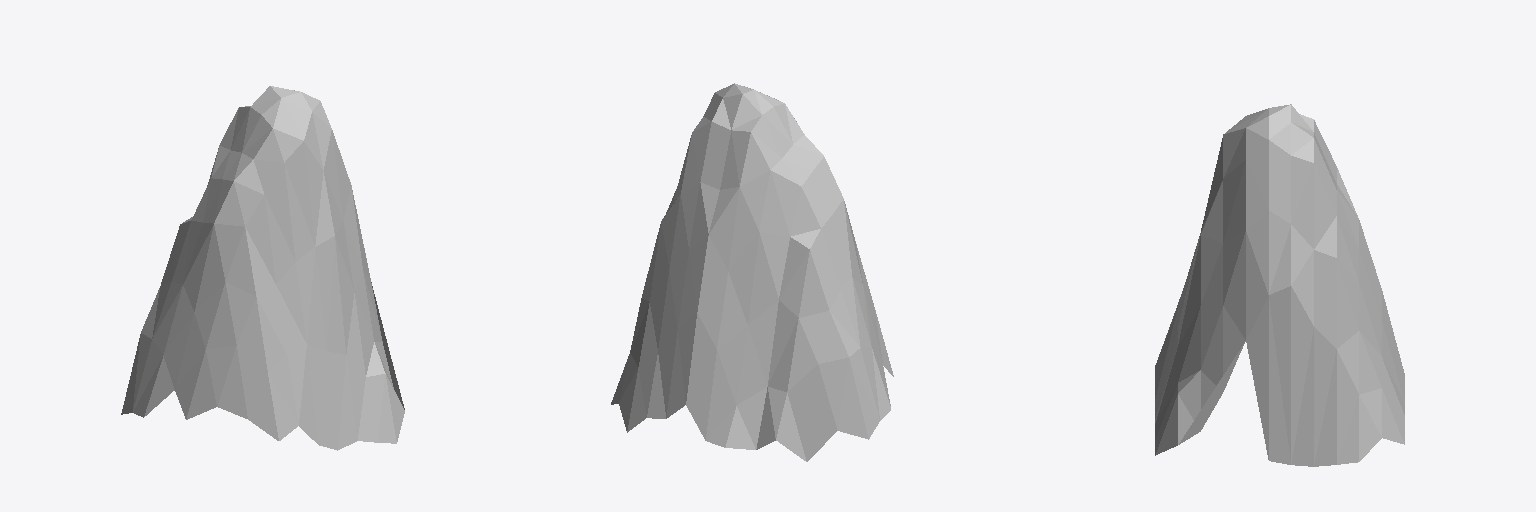
Rendered from tree_10.obj.
3 views of the same model, side by side, from view 1: azimuth 30°, elevation 25°; view 2: azimuth 150°, elevation 25°; view 3: azimuth 270°, elevation 25° (orthographic).
Visible parts, largest first — view 1: tree_10.001; view 2: tree_10.001; view 3: tree_10.001.
Boxes of the visible parts, box(x1,y1,x2,y2) form: tree_10.001: box(121, 86, 404, 450); tree_10.001: box(611, 83, 893, 461); tree_10.001: box(1155, 104, 1404, 466).
Bounding box in the file's own units: 12 × 15.7 × 11.